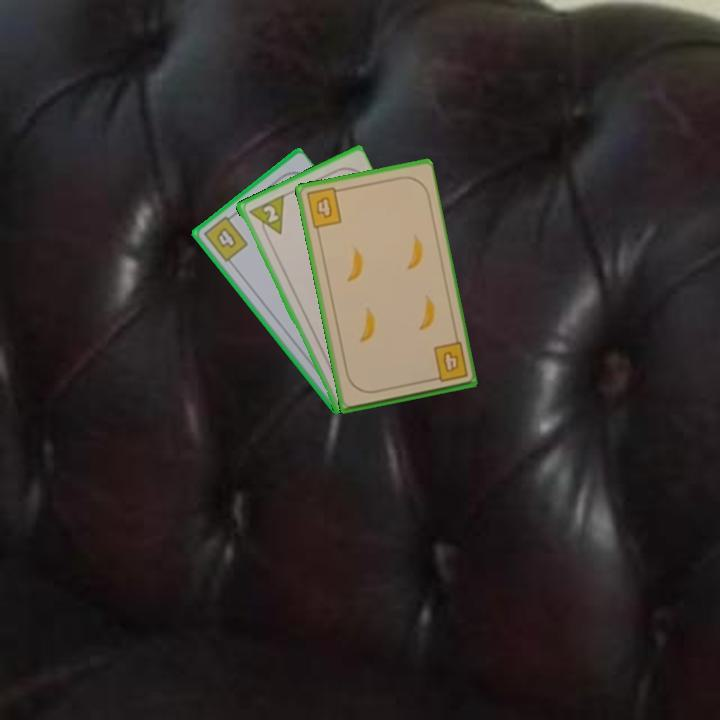2p: (245, 191, 287, 242)
4b: (200, 210, 251, 265), (426, 339, 470, 385), (302, 184, 345, 231)
